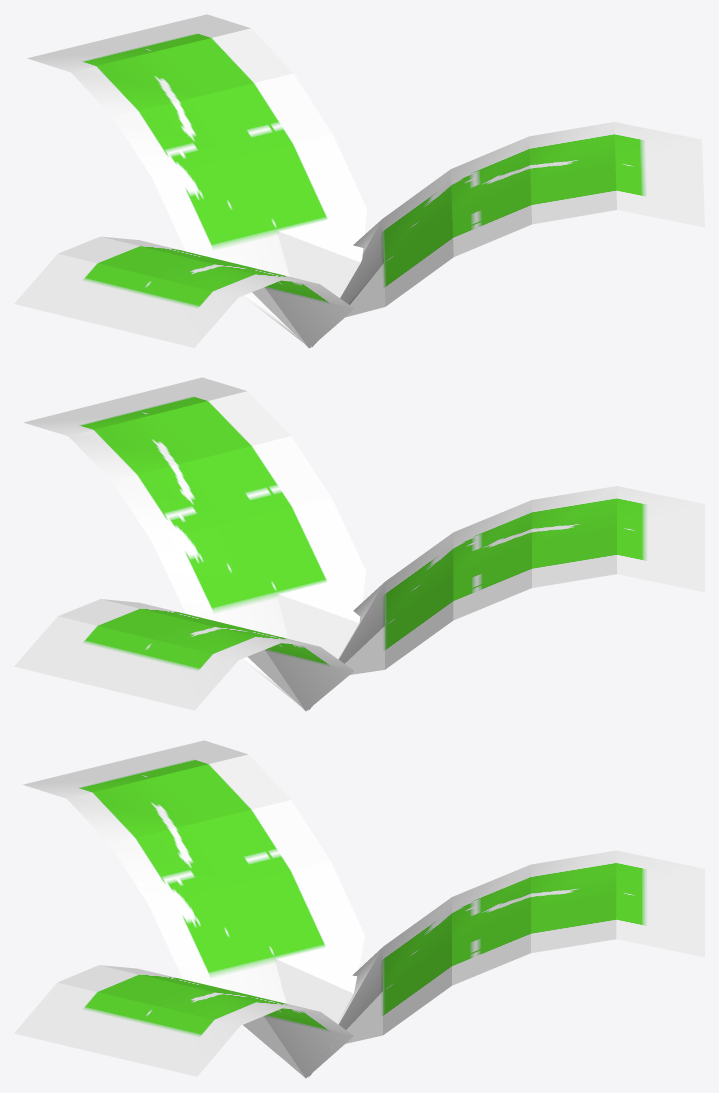
The model's file is jiantou_fbx.FBX.
3 views of the same model, one above another, from view 1: azimuth 30°, elevation 25°; view 2: azimuth 150°, elevation 25°; view 3: azimuth 270°, elevation 25° (orthographic).
Parts seen in each view (by area): view 1: Plane003; view 2: Plane003; view 3: Plane003.
Part boxes in pixels (x1,y1,x2,y2): Plane003: [14, 14, 704, 348]; Plane003: [14, 377, 704, 711]; Plane003: [14, 740, 704, 1078].
Bounding box in the file's own units: 0.6735 × 0.5845 × 0.1734.
